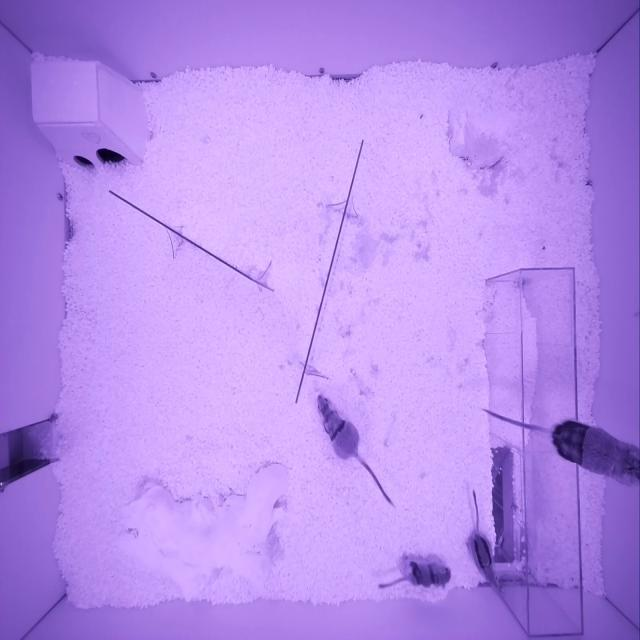adult_back: (551, 419, 639, 488)
adult_front: (316, 395, 359, 460)
pup_h_stripe: (403, 558, 452, 589)
pup_v_stripe: (469, 530, 500, 592)
